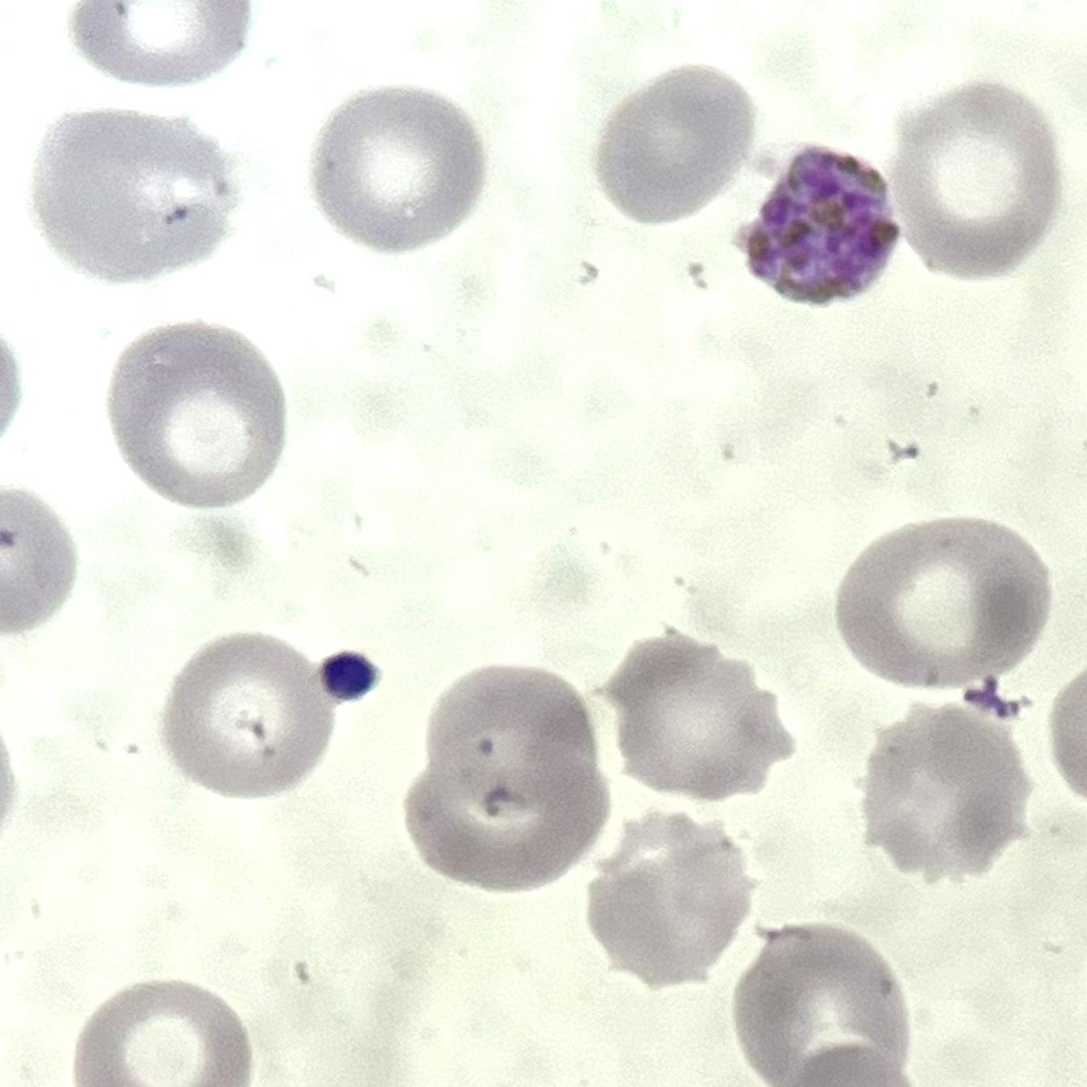Infected: (737, 141, 897, 307)
Uninfected: (24, 114, 229, 293), (839, 516, 1051, 689), (890, 74, 1060, 278), (103, 325, 278, 519), (402, 735, 612, 886), (612, 632, 782, 807), (156, 638, 325, 814), (575, 805, 737, 987), (866, 702, 1021, 877), (316, 93, 481, 257), (742, 929, 900, 1087), (596, 71, 753, 226), (432, 667, 585, 816), (76, 978, 253, 1087)
